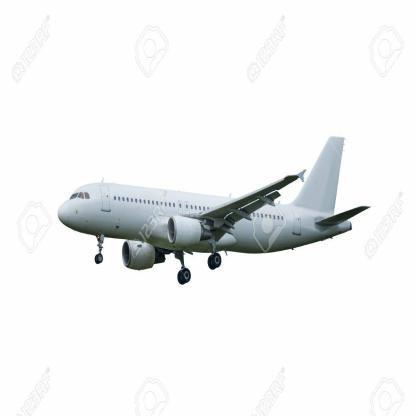CIV_Plane: (49, 132, 374, 294)
